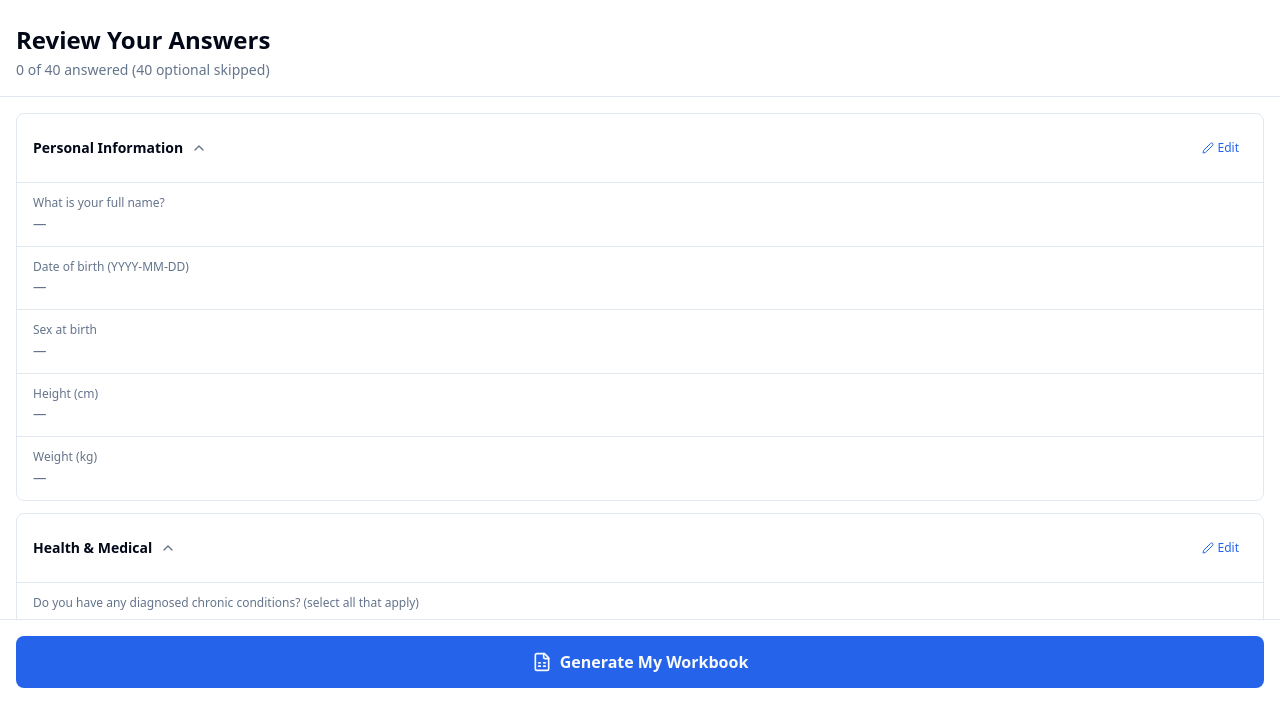
Test: ReviewScreen › toggles section collapse when header is clicked
Check: the text "What is your full name?" is shown, box [33,194,165,211]
Click the button "Personal Information" at (108, 148), box [33,126,1194,170]
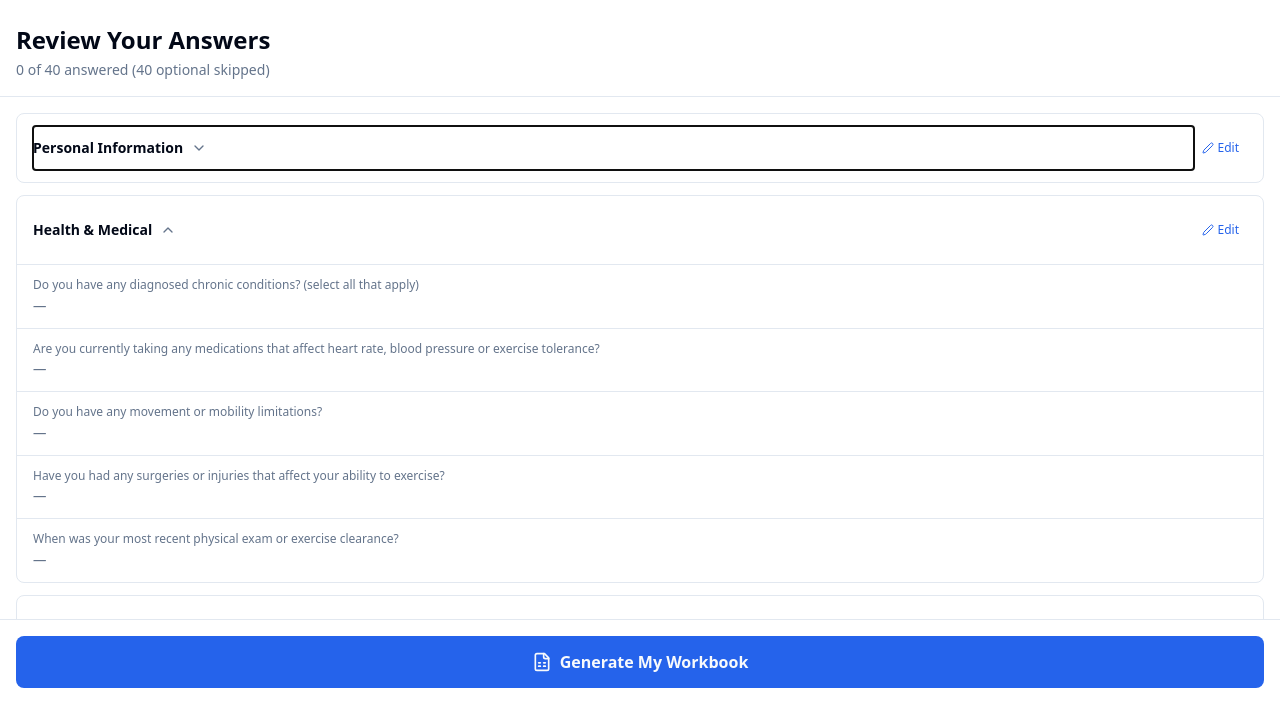
Check: the text "What is your full name" is gone
